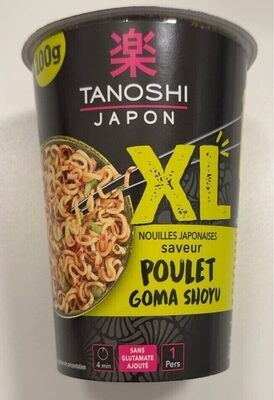Poulet Goma Shoyu: (14, 20, 260, 380)
